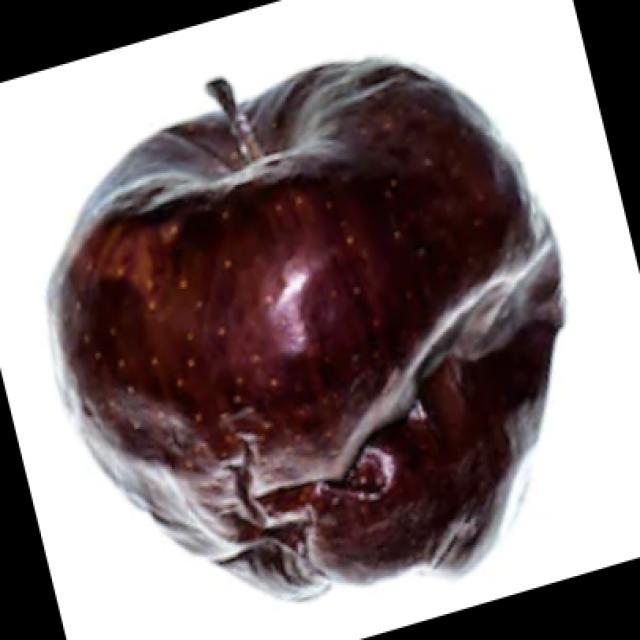Rotten: (55, 57, 570, 608)
